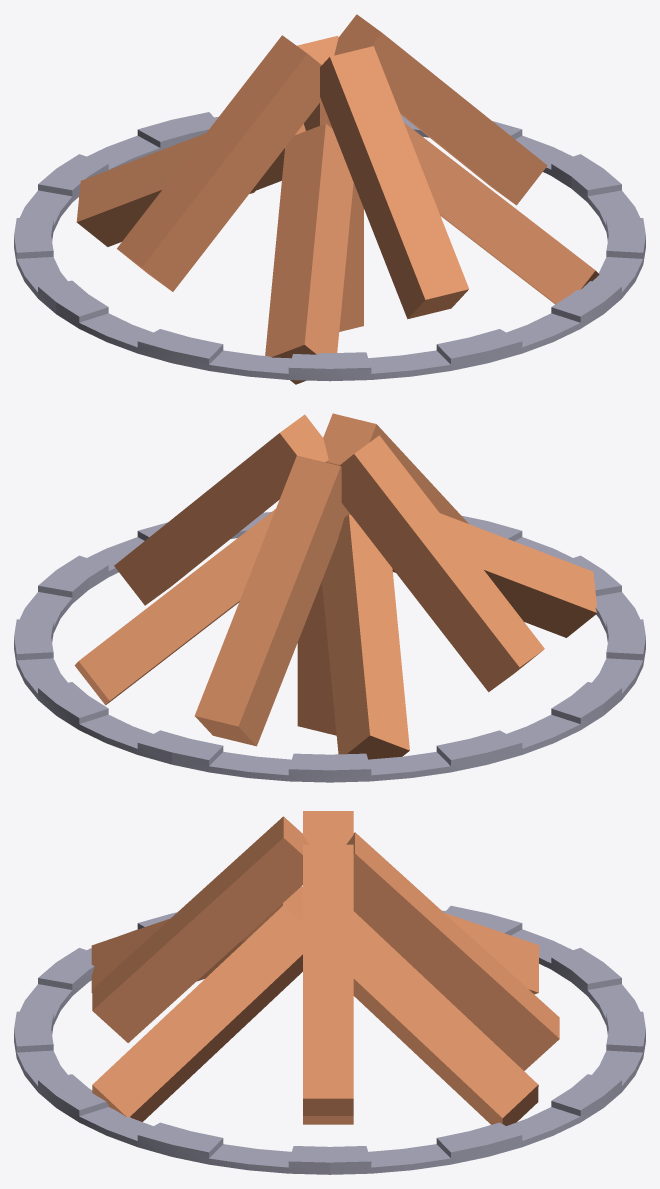
File: Brasero.fbx
The picture shows the model from 3 angles, top to bottom: view 1: azimuth 30°, elevation 25°; view 2: azimuth 150°, elevation 25°; view 3: azimuth 270°, elevation 25°; orthographic projection.
Visible parts, largest first — view 1: structure_pole_358, structure_pole_362, structure_pole_359, battlement_cornerRound%_368, structure_pole_364, structure_pole_363, battlement_cornerRound%_367, battlement_cornerRound%_369, structure_pole_357, structure_pole_361, battlement_cornerRound%_370, structure_pole_360; view 2: structure_pole_360, structure_pole_358, structure_pole_357, structure_pole_364, battlement_cornerRound%_369, structure_pole_366, battlement_cornerRound%_370, structure_pole_359, battlement_cornerRound%_368, structure_pole_361, structure_pole_362, battlement_cornerRound%_367; view 3: structure_pole_362, structure_pole_360, structure_pole_363, structure_pole_366, structure_pole_364, battlement_cornerRound%_367, battlement_cornerRound%_370, battlement_cornerRound%_369, battlement_cornerRound%_368, structure_pole_359, structure_pole_357, structure_pole_358.
Boxes of the visible parts, bbox=[...] form: structure_pole_358: bbox=[117, 35, 321, 291]; structure_pole_362: bbox=[320, 46, 468, 319]; structure_pole_359: bbox=[265, 123, 353, 384]; battlement_cornerRound%_368: bbox=[56, 291, 490, 381]; structure_pole_364: bbox=[334, 14, 547, 205]; structure_pole_363: bbox=[404, 122, 599, 304]; battlement_cornerRound%_367: bbox=[463, 165, 645, 362]; battlement_cornerRound%_369: bbox=[14, 120, 196, 313]; structure_pole_357: bbox=[76, 124, 305, 246]; structure_pole_361: bbox=[304, 101, 363, 331]; battlement_cornerRound%_370: bbox=[166, 112, 602, 188]; structure_pole_360: bbox=[249, 35, 338, 193]; structure_pole_360: bbox=[194, 455, 348, 746]; structure_pole_358: bbox=[339, 435, 544, 692]; structure_pole_357: bbox=[322, 514, 409, 759]; structure_pole_364: bbox=[114, 414, 328, 605]; battlement_cornerRound%_369: bbox=[166, 696, 603, 782]; structure_pole_366: bbox=[74, 509, 275, 705]; battlement_cornerRound%_370: bbox=[14, 570, 191, 764]; structure_pole_359: bbox=[392, 513, 596, 637]; battlement_cornerRound%_368: bbox=[476, 521, 645, 715]; structure_pole_361: bbox=[297, 512, 350, 735]; structure_pole_362: bbox=[323, 413, 468, 523]; battlement_cornerRound%_367: bbox=[56, 512, 494, 589]; structure_pole_362: bbox=[92, 816, 309, 1042]; structure_pole_360: bbox=[346, 832, 559, 1070]; structure_pole_363: bbox=[92, 905, 302, 1121]; structure_pole_366: bbox=[353, 911, 538, 1125]; structure_pole_364: bbox=[303, 844, 353, 1115]; battlement_cornerRound%_367: bbox=[14, 1021, 345, 1174]; battlement_cornerRound%_370: bbox=[315, 1021, 645, 1174]; battlement_cornerRound%_369: bbox=[442, 905, 645, 1036]; battlement_cornerRound%_368: bbox=[14, 912, 176, 1036]; structure_pole_359: bbox=[91, 886, 302, 992]; structure_pole_357: bbox=[445, 913, 539, 994]; structure_pole_358: bbox=[303, 811, 353, 844].
Bounding box in the file's own units: 23.38 × 11.79 × 23.38.
